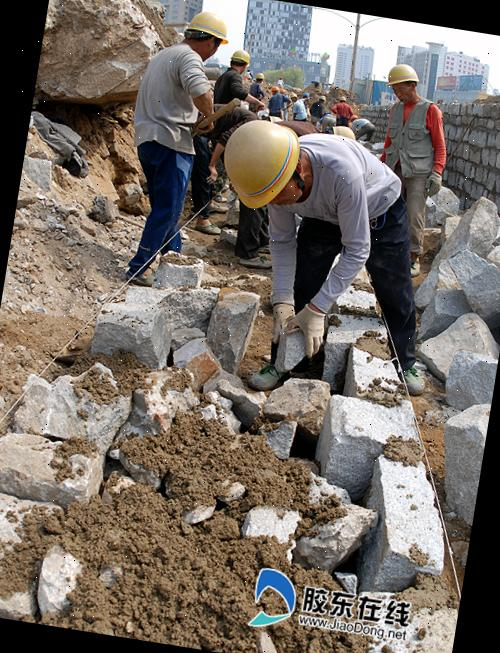helmet: (215, 109, 308, 219), (177, 2, 233, 40), (380, 58, 426, 92), (227, 47, 254, 66)
no_wear: (121, 36, 212, 163), (290, 134, 396, 222), (378, 96, 446, 200), (209, 64, 243, 107)
